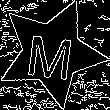M_N: (25, 25, 78, 81)
